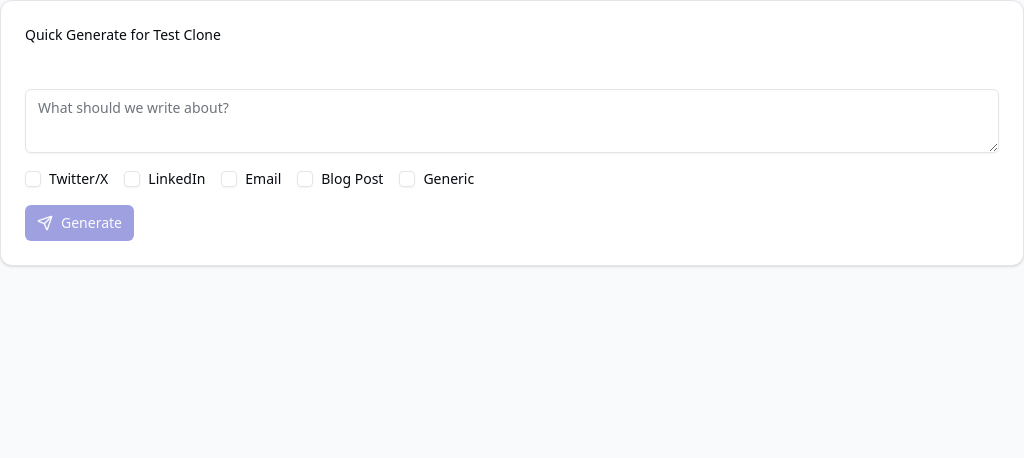
QuickGenerate › generates content and shows result
The image size is (1024, 458).
Type "Write about AI trends" into the text box with placeholder "What should we write about?". click: (512, 121)
box: [25,89,999,153]
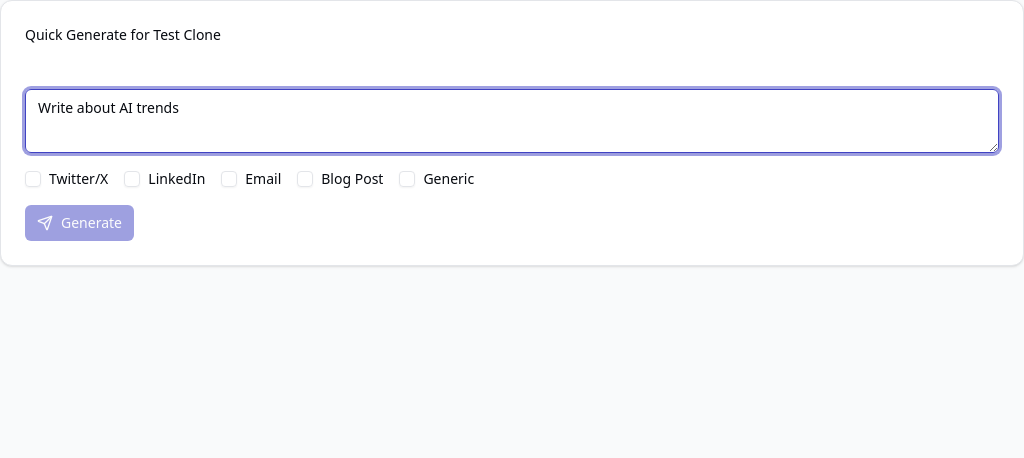
Click the checkbox named "linkedin" next to "LinkedIn". click: (132, 179)
box: [124,171,140,187]
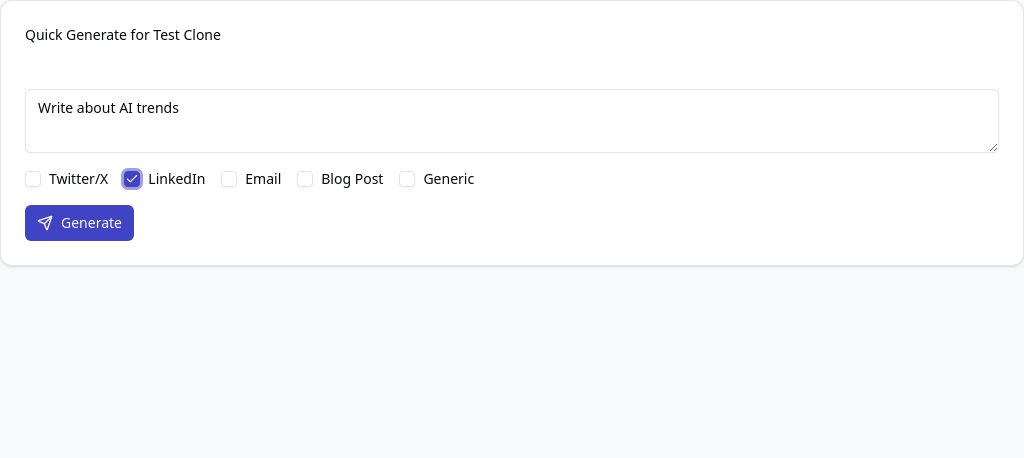
Click the button "Generate". click: (80, 223)
box: [25,205,134,241]
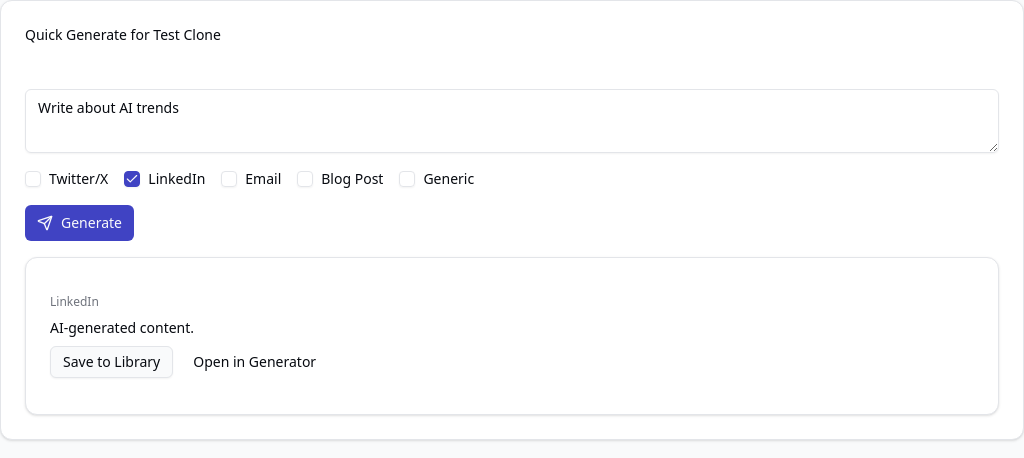
Check: the text "AI-generated content." is shown, box [50,318,194,337]
